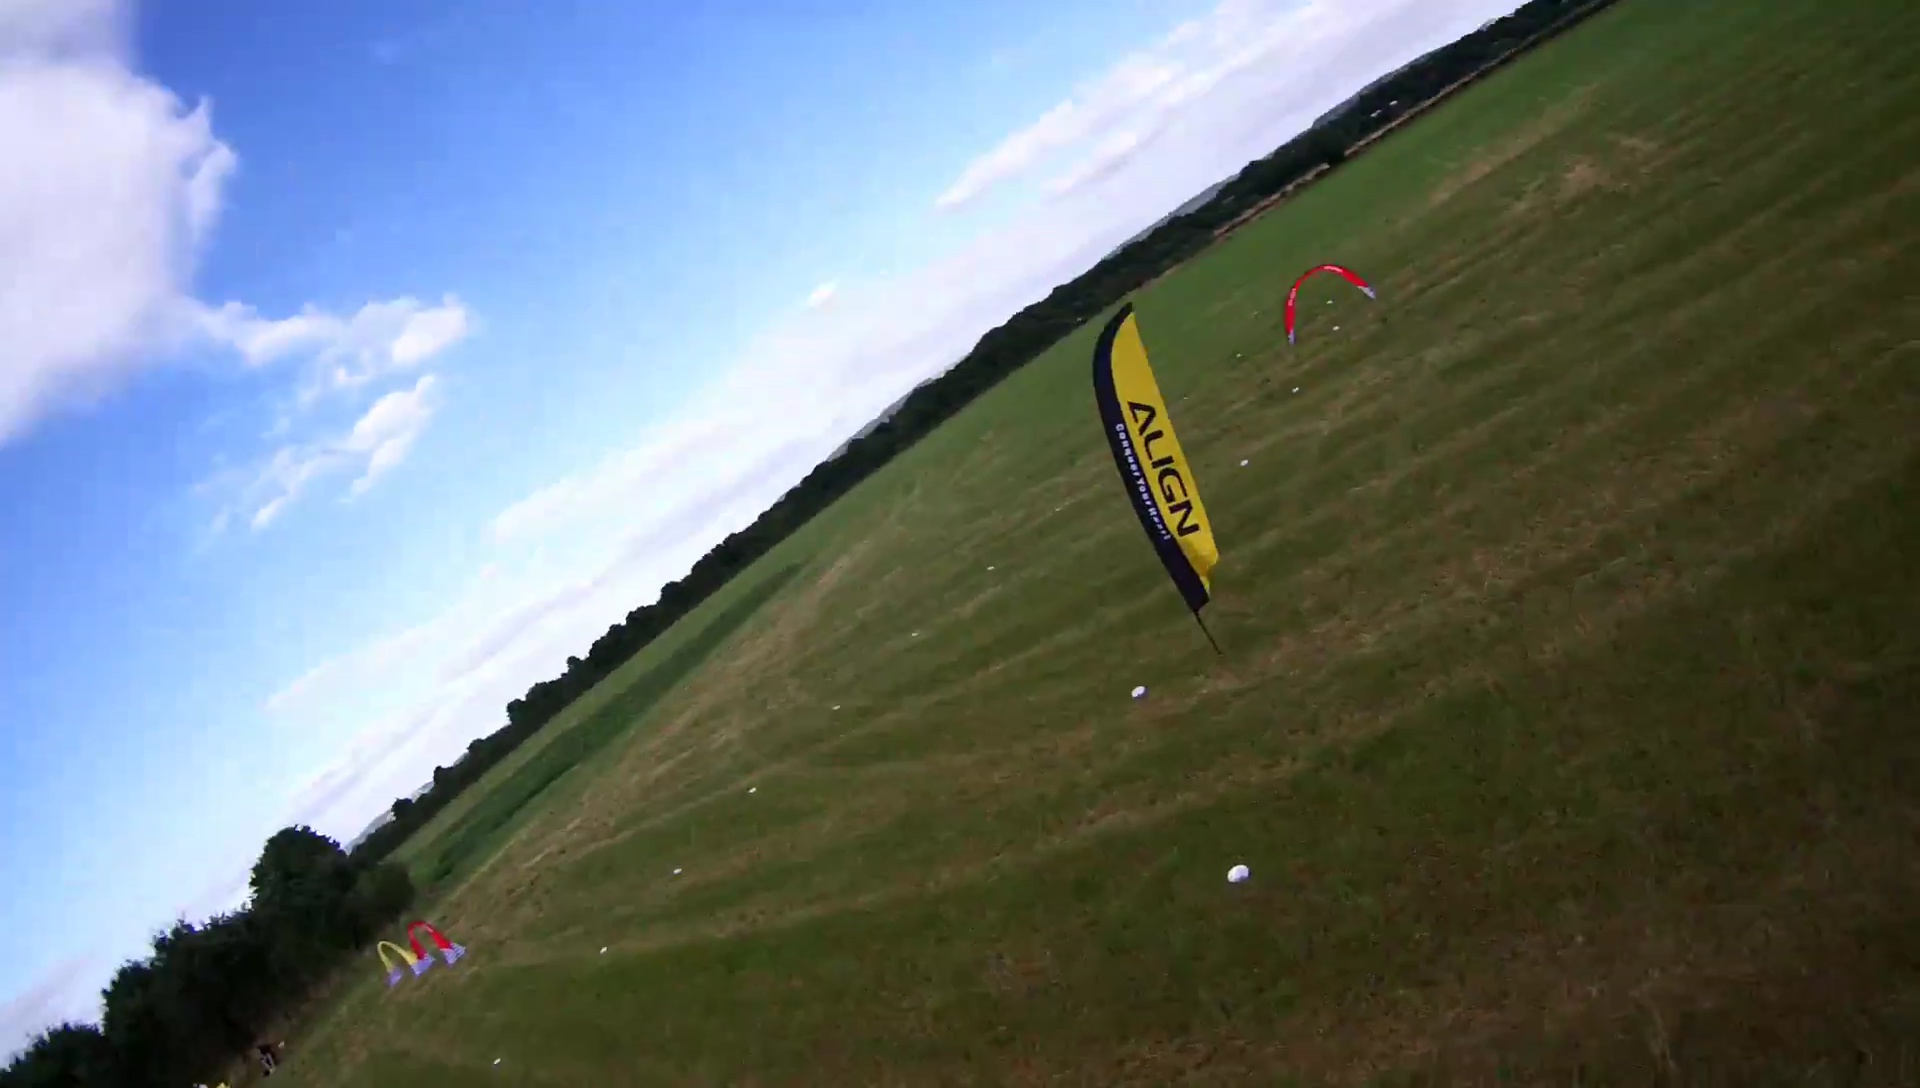gate: (1282, 262, 1379, 347), (405, 921, 463, 972), (376, 939, 427, 986)
